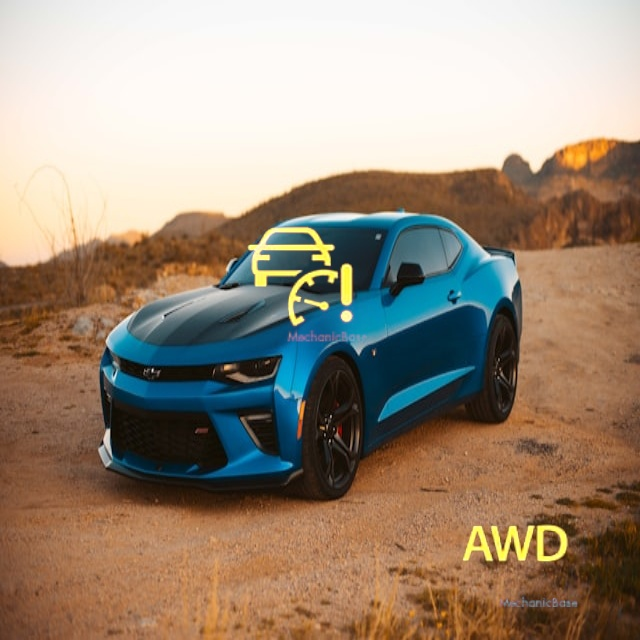symbol: (230, 207, 370, 347), (445, 476, 583, 614)
